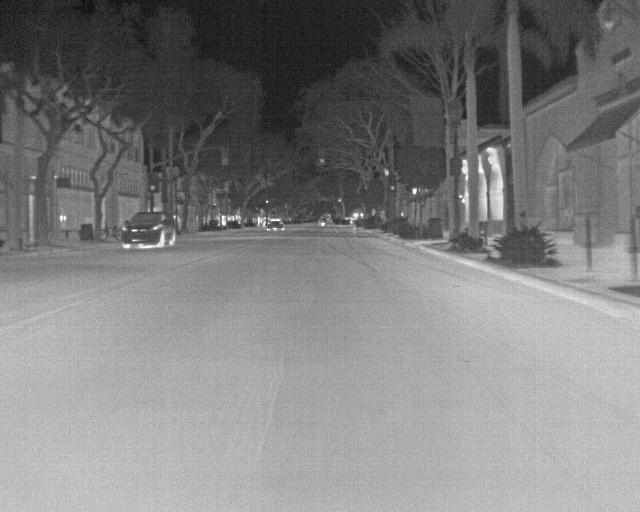bicycle: (94, 225, 121, 242)
car: (121, 210, 177, 251), (266, 217, 286, 232)
